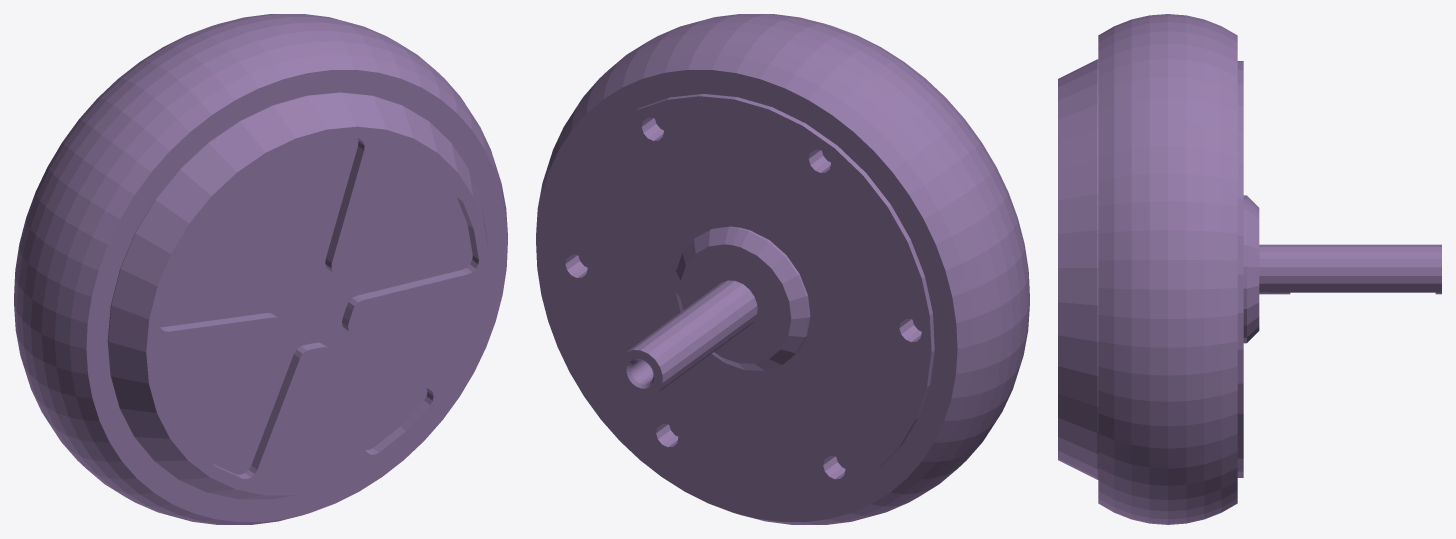
Rendered from wheel_left_link.glb.
The picture shows the model from 3 angles, left to right: view 1: azimuth 30°, elevation 25°; view 2: azimuth 150°, elevation 25°; view 3: azimuth 270°, elevation 25°; orthographic projection. The views are drawn at different scales.
Bounding box in the file's own units: 0.1651 × 0.1649 × 0.124.
